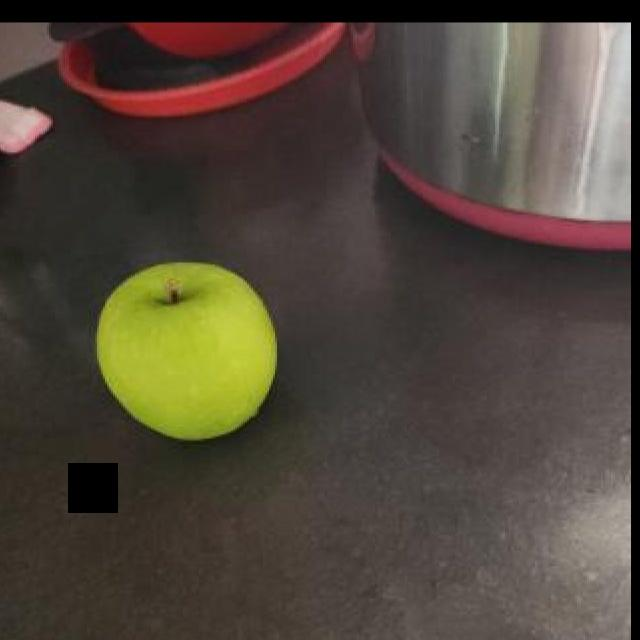green apple: (94, 260, 281, 442)
